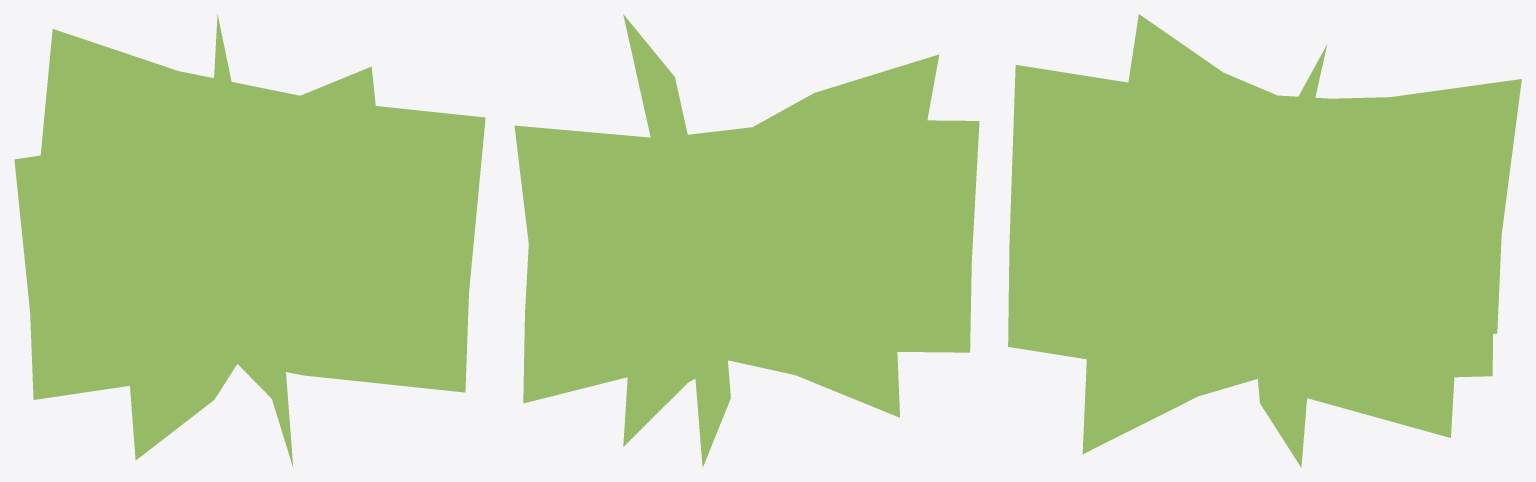
The model's file is GrassPlanes_a_TwoS_11.fbx.
The picture shows the model from 3 angles, left to right: view 1: azimuth 30°, elevation 25°; view 2: azimuth 150°, elevation 25°; view 3: azimuth 270°, elevation 25°; orthographic projection. The views are drawn at different scales.
Parts seen in each view (by area): view 1: GrassPlanes_a_TwoS_11; view 2: GrassPlanes_a_TwoS_11; view 3: GrassPlanes_a_TwoS_11.
Boxes of the visible parts, x1,y1,x2,y2 form: GrassPlanes_a_TwoS_11: (14, 15, 485, 467); GrassPlanes_a_TwoS_11: (514, 14, 979, 467); GrassPlanes_a_TwoS_11: (1008, 14, 1521, 467).
Size of the model in its own units: 0.9252 by 0.6169 by 1.05.
